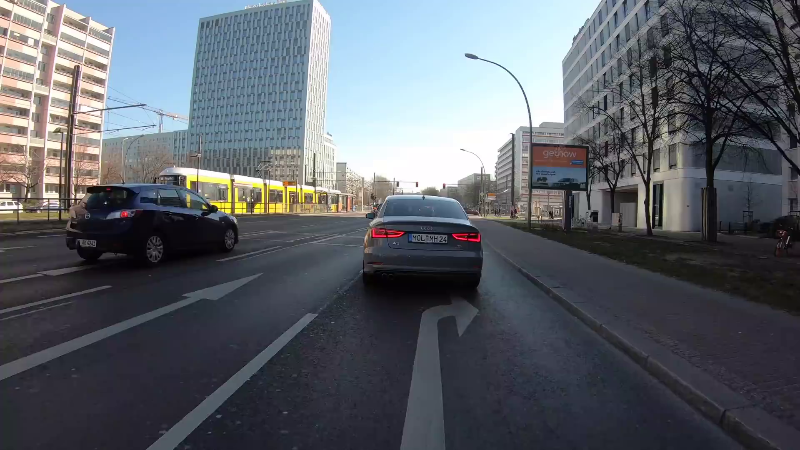Plate: (405, 231, 448, 248), (74, 236, 98, 248)
